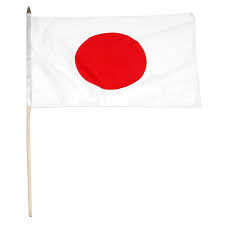Japanese Flag: (24, 13, 202, 109)
